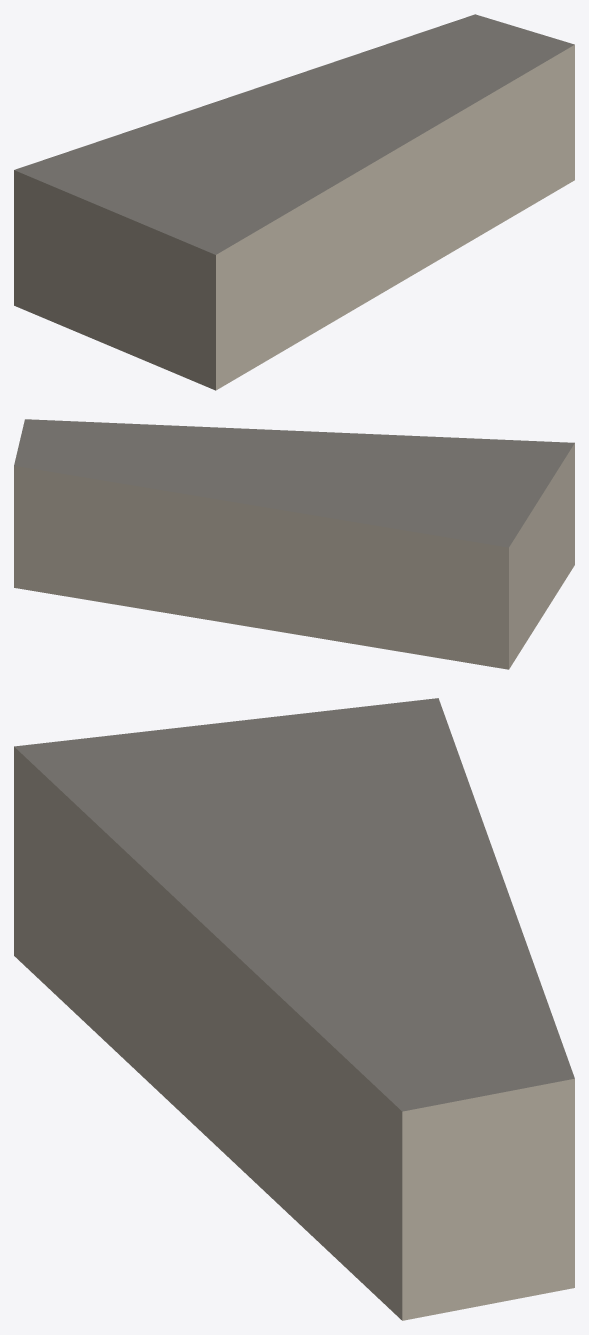
The picture shows the model from 3 angles, top to bottom: view 1: azimuth 30°, elevation 25°; view 2: azimuth 150°, elevation 25°; view 3: azimuth 270°, elevation 25°; orthographic projection. The views are drawn at different scales.
Parts seen in each view (by area): view 1: HP-w372180466; view 2: HP-w372180466; view 3: HP-w372180466.
Part boxes in pixels (bbox=[...]): HP-w372180466: bbox=[14, 14, 574, 390]; HP-w372180466: bbox=[14, 419, 574, 669]; HP-w372180466: bbox=[14, 698, 574, 1320].
Bounding box in the file's own units: 76.28 × 18 × 43.73.
